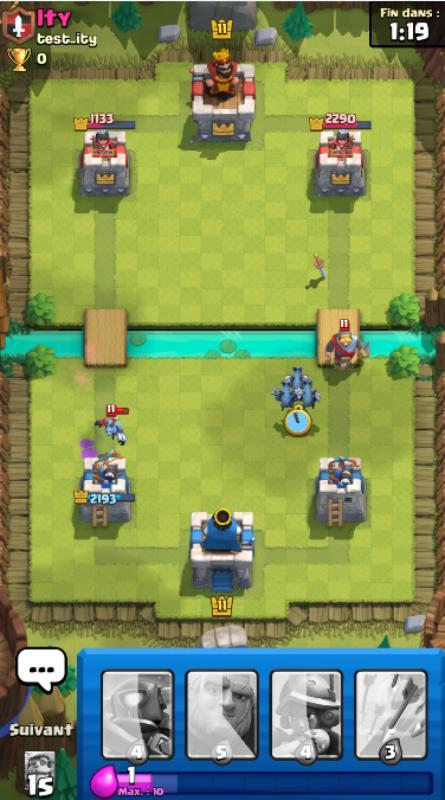chevalier: (323, 318, 371, 372)
gargouille: (93, 404, 131, 448), (271, 380, 299, 408), (283, 366, 310, 394), (298, 380, 321, 410)
